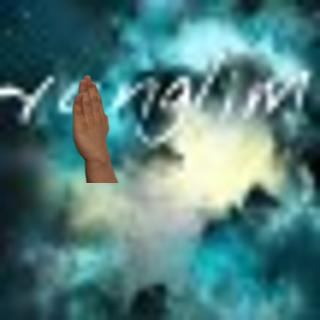RIGHT: (64, 69, 115, 164)
